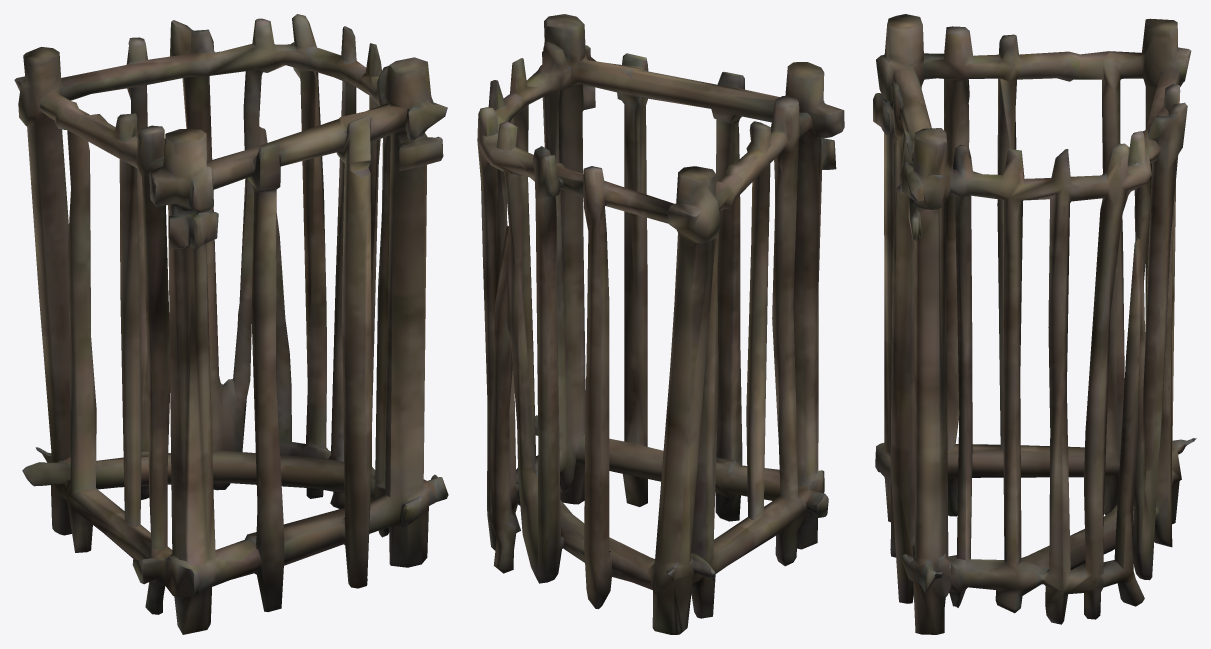
The model's file is rustic-wood-portcullis-v001.glb.
3 renders of one model, left to right at view 1: azimuth 30°, elevation 25°; view 2: azimuth 150°, elevation 25°; view 3: azimuth 270°, elevation 25°, orthographic. The views are drawn at different scales.
Parts seen in each view (by area): view 1: rustic-wood-portcullis; view 2: rustic-wood-portcullis; view 3: rustic-wood-portcullis.
Boxes of the visible parts, bbox=[...] form: rustic-wood-portcullis: bbox=[14, 14, 448, 634]; rustic-wood-portcullis: bbox=[477, 14, 844, 634]; rustic-wood-portcullis: bbox=[873, 14, 1196, 634].
Bounding box in the file's own units: 1.96 × 3.01 × 1.77.
Materials: 1 (1 with a texture image).
